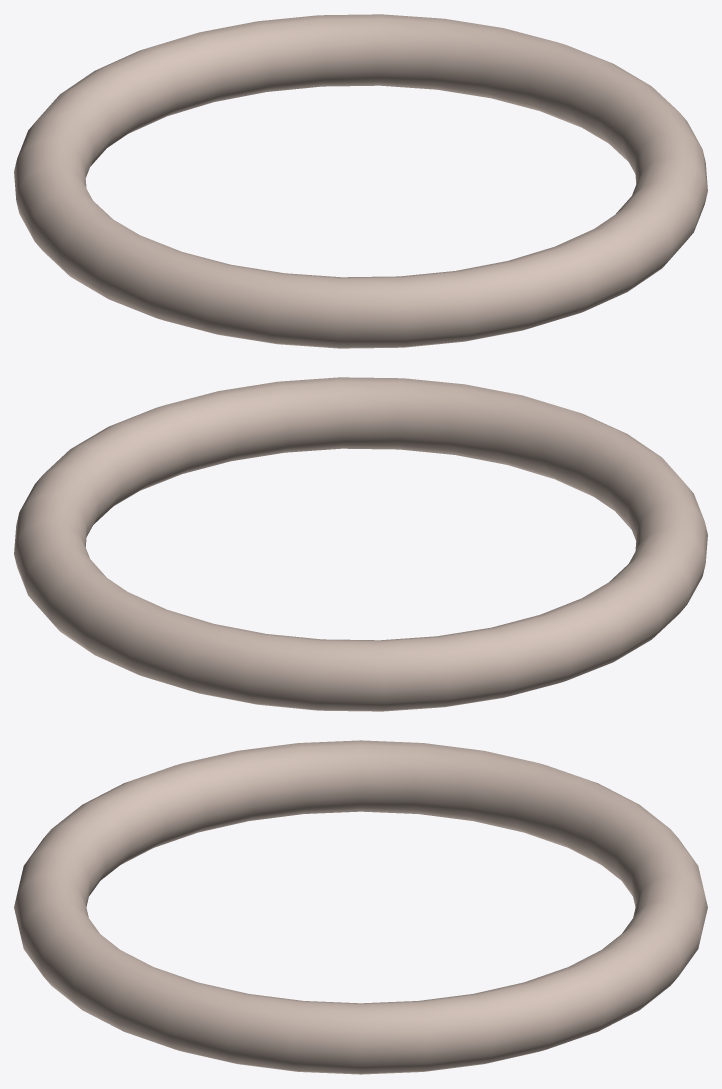
3 views of the same model, one above another, from view 1: azimuth 30°, elevation 25°; view 2: azimuth 150°, elevation 25°; view 3: azimuth 270°, elevation 25° (orthographic).
Visible parts, largest first — view 1: Torus001; view 2: Torus001; view 3: Torus001.
Part boxes in pixels (x1,y1,x2,y2): Torus001: (14, 14, 707, 348); Torus001: (14, 377, 707, 711); Torus001: (14, 740, 707, 1074).
Bounding box in the file's own units: 70.03 × 7.19 × 70.03.
